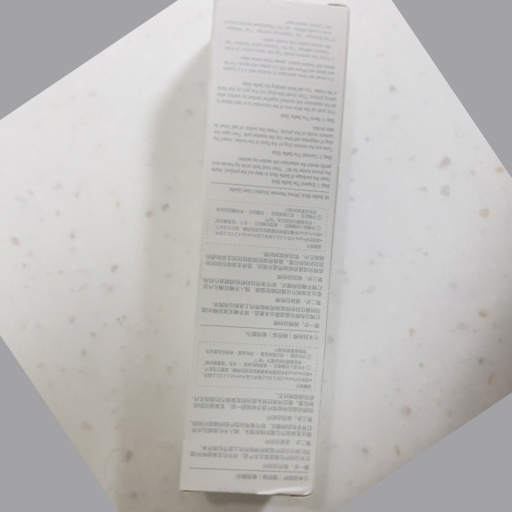Paper_0: (178, 1, 354, 511)
